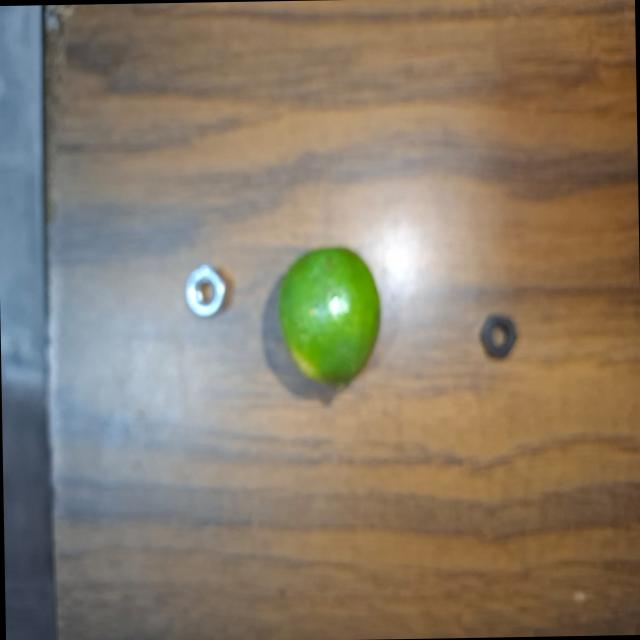limon: (277, 243, 383, 394)
milimetrico: (476, 311, 520, 361)
tuerca: (180, 258, 232, 320)
